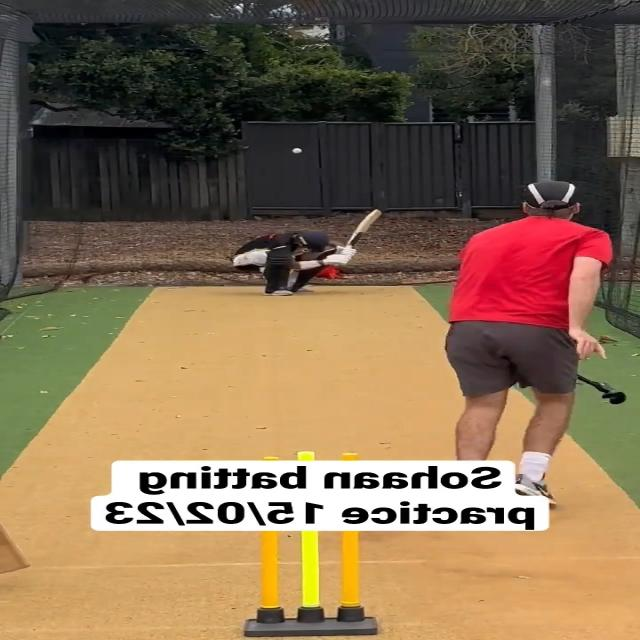ball: (292, 148, 302, 154)
stump: (247, 532, 376, 636)
